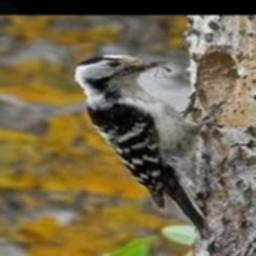Woodpecker: (74, 54, 207, 233)
